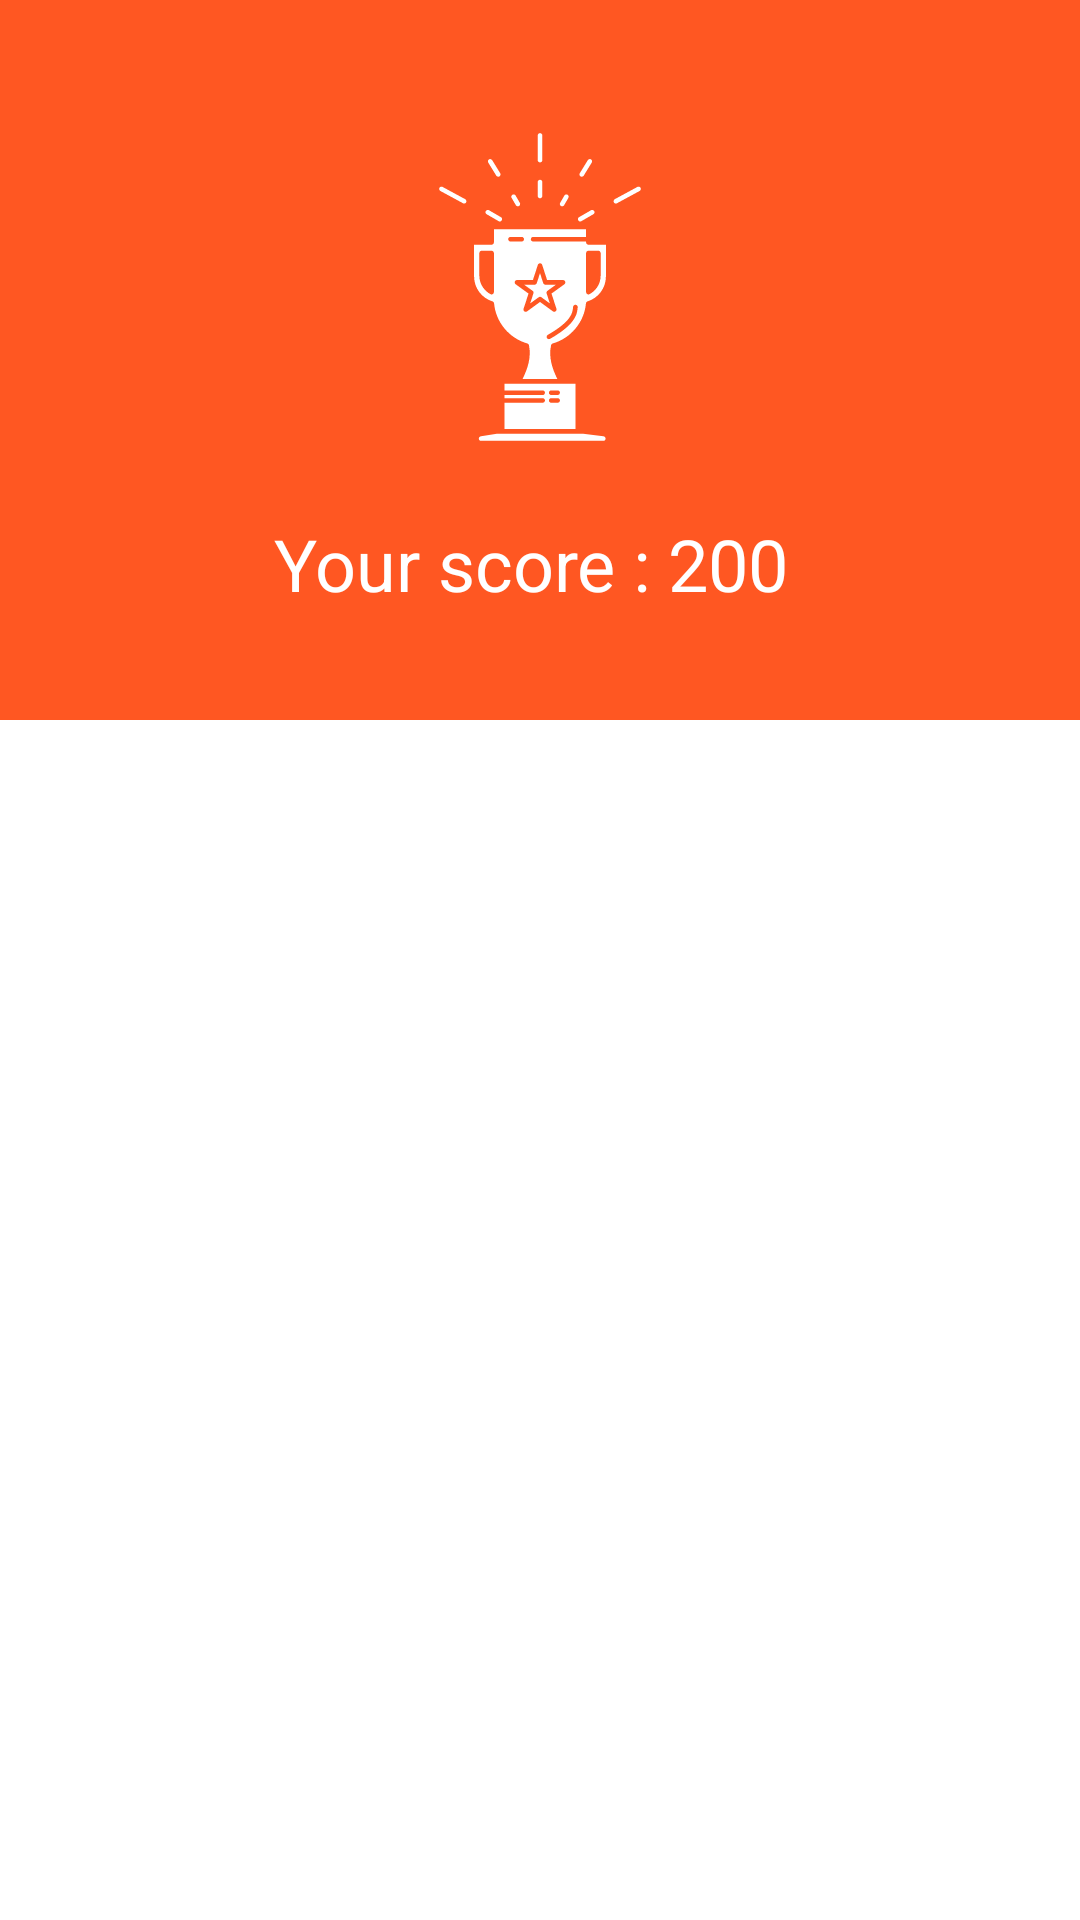

Icon click points for this 1080w x 1920h phone screenshot, format (x,y):
trophy: (540,287)
